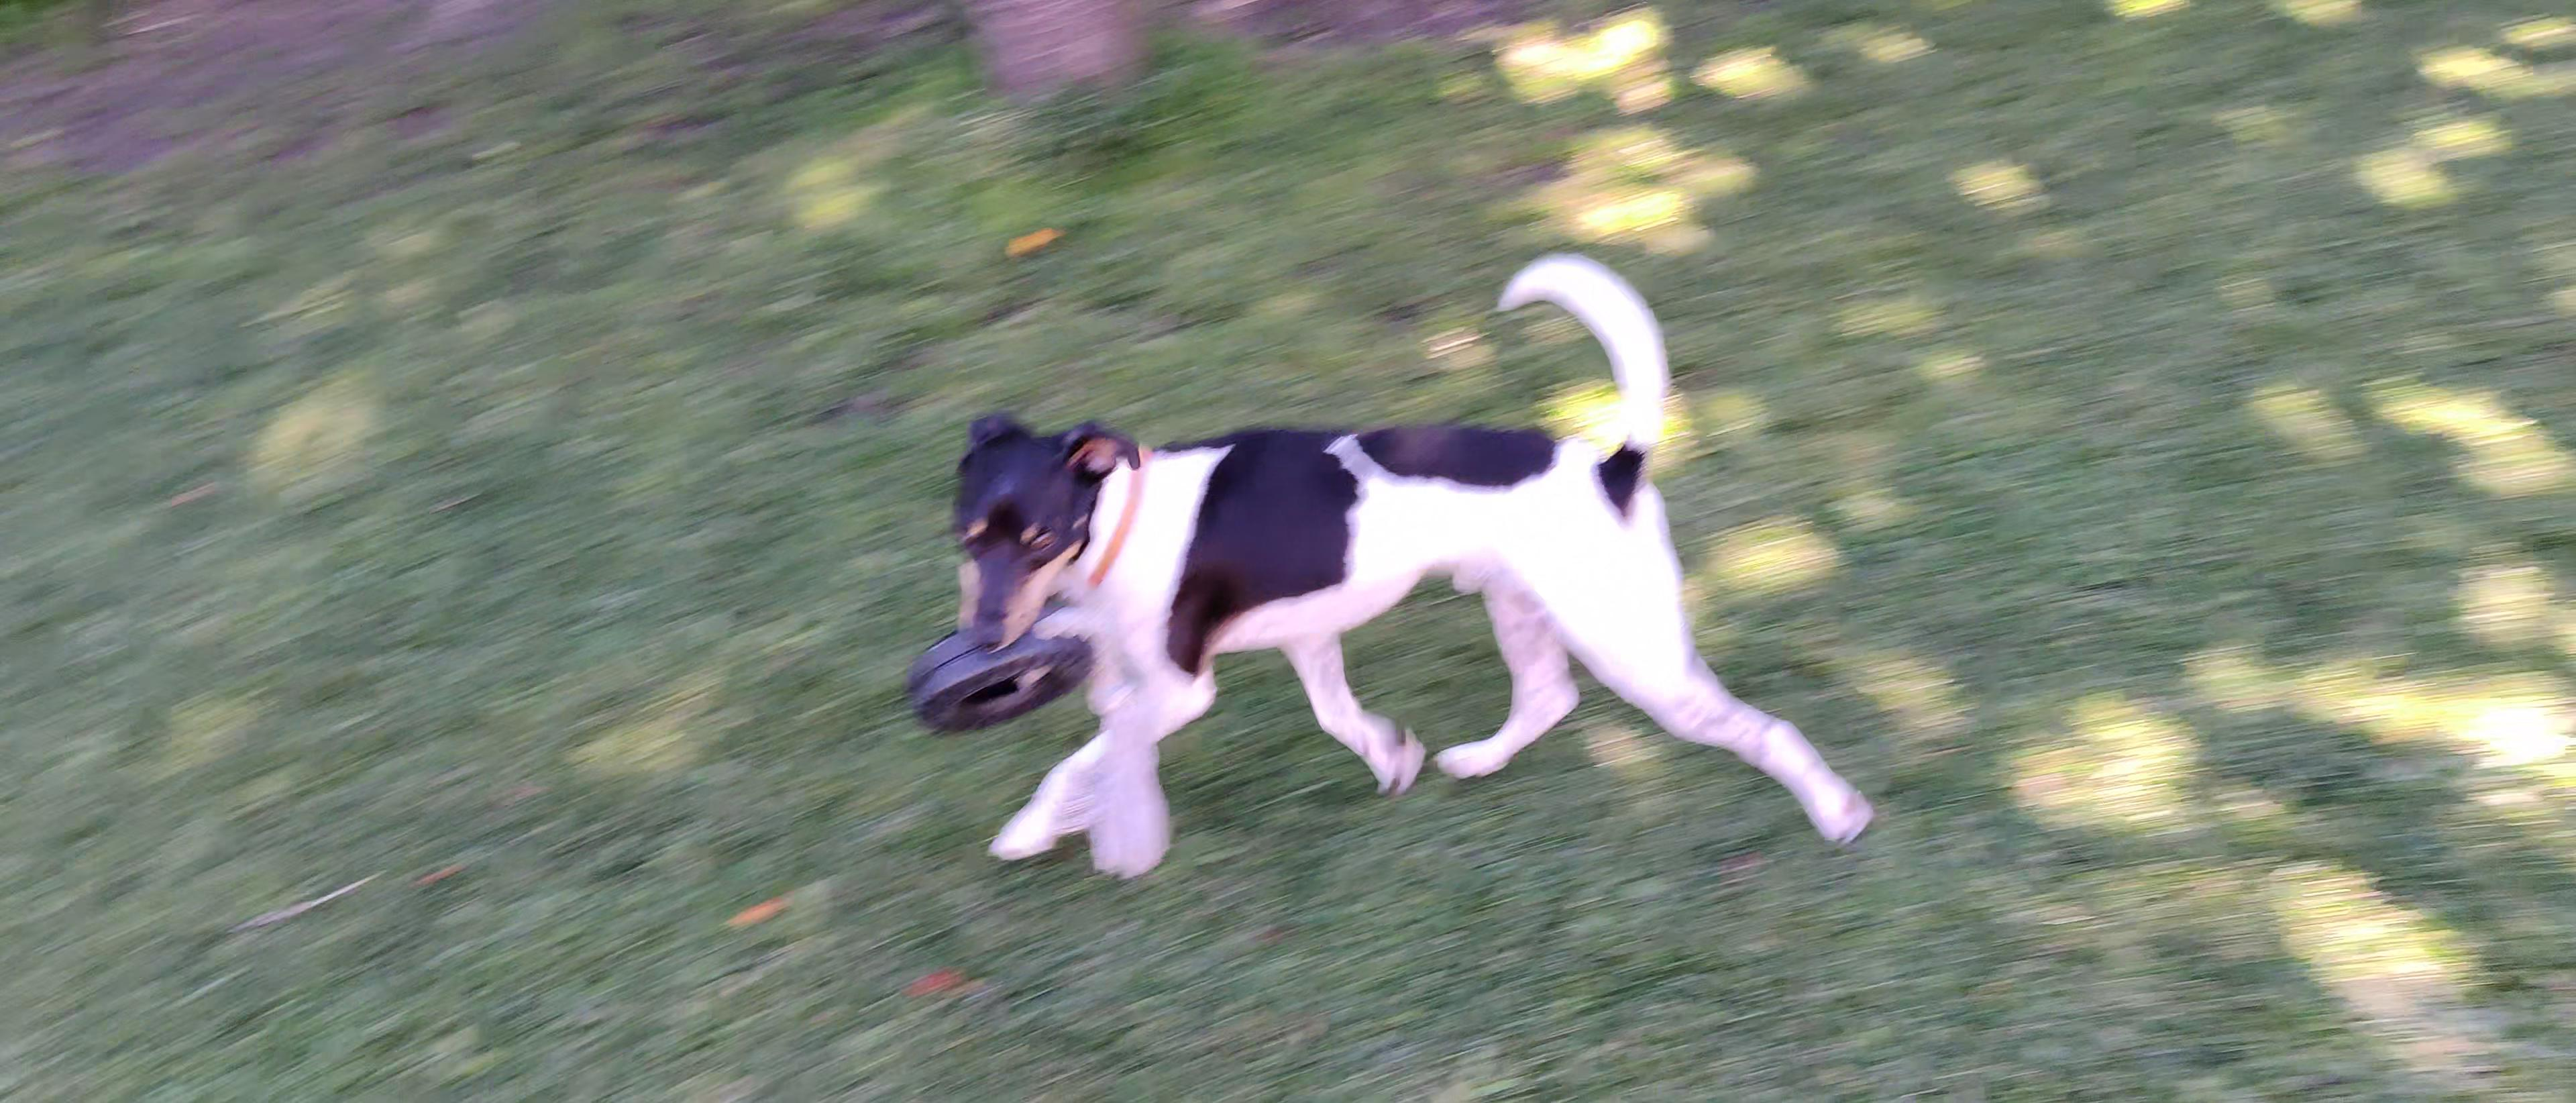Dog: (928, 248, 1899, 898)
